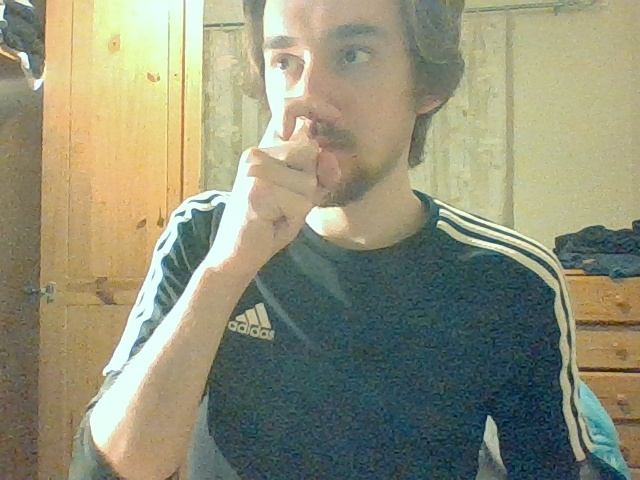sister: (229, 95, 343, 256)
